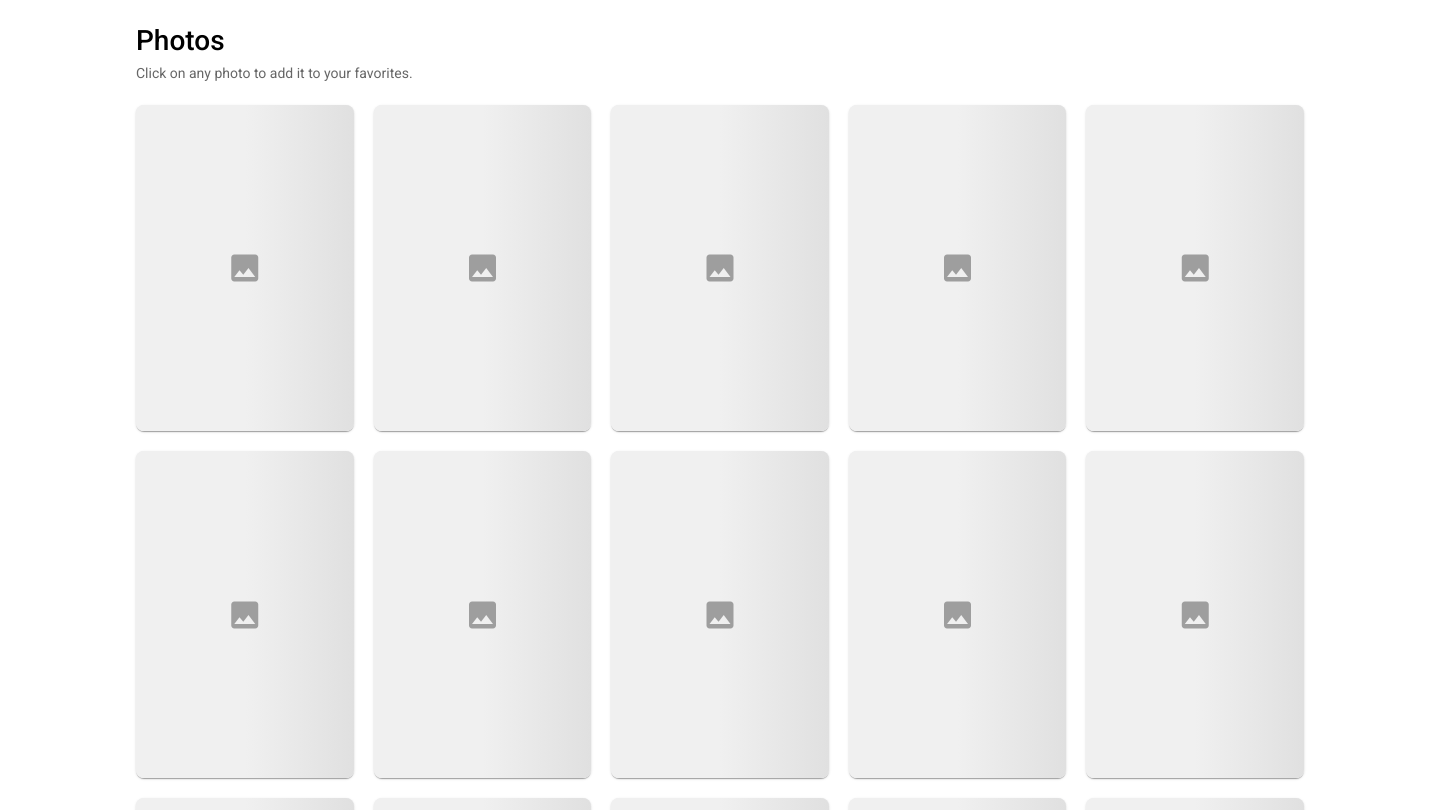
PhotoGalleryComponent (Integration) › should add a photo to favorites when card is clicked and update UI
The width and height of the screenshot is (1440, 810).
Click the button named "Photo #1". click: (245, 268)
box: [136, 105, 354, 431]
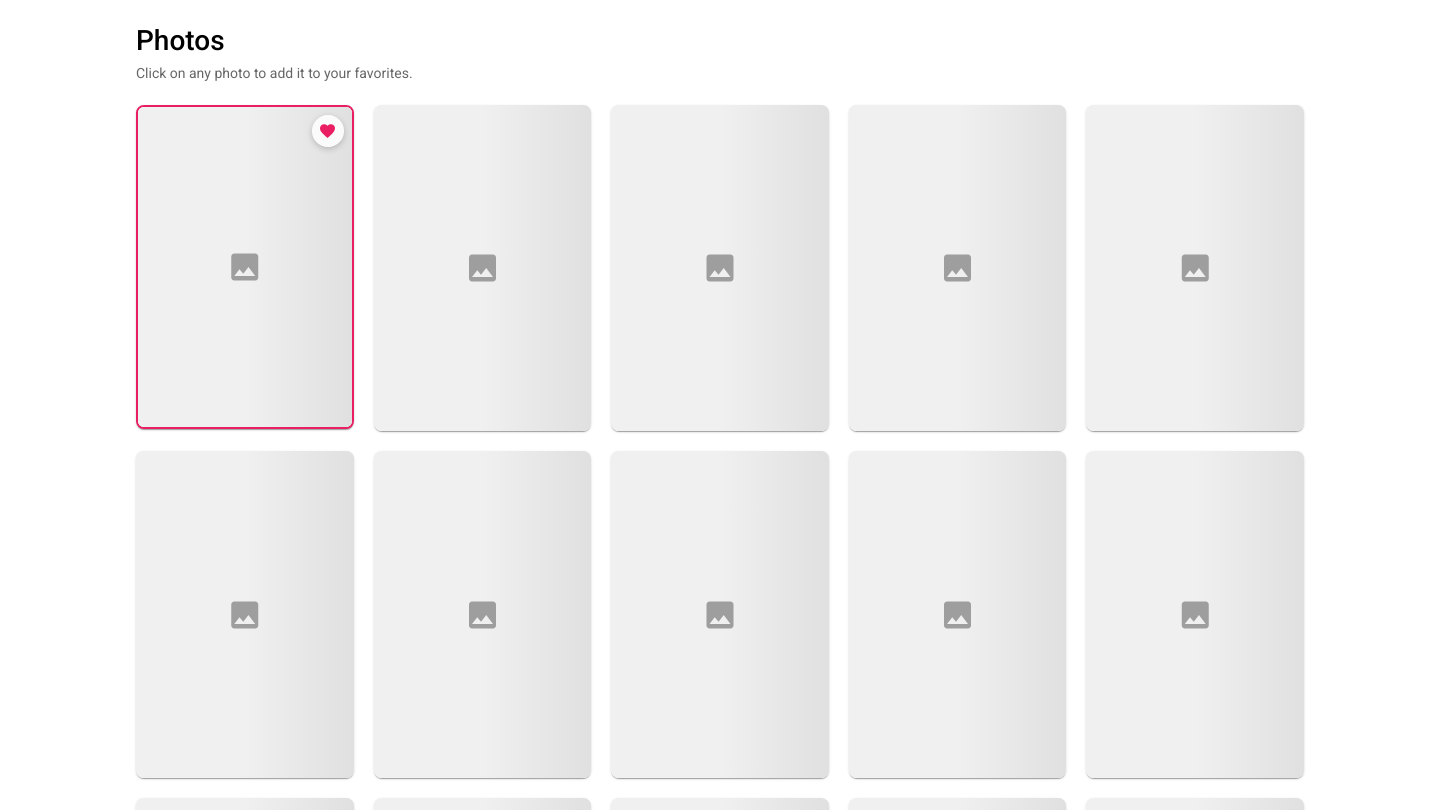
Now the element with class "favorite-indicator" is shown, box [312, 115, 344, 147]
